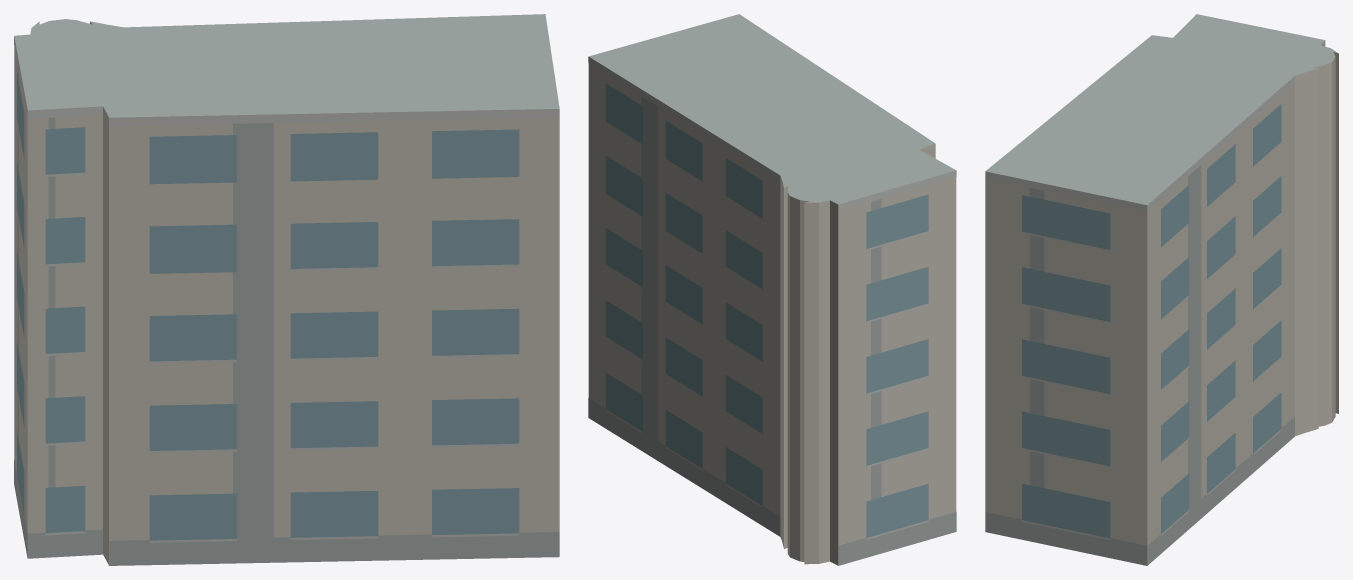
Rendered from survey-upis-32914213.glb.
3 views of the same model, side by side, from view 1: azimuth 30°, elevation 25°; view 2: azimuth 150°, elevation 25°; view 3: azimuth 270°, elevation 25° (orthographic). The views are drawn at different scales.
Visible parts, largest first — view 1: survey-upis-32914213.tmp; view 2: survey-upis-32914213.tmp; view 3: survey-upis-32914213.tmp.
Part boxes in pixels (x1,y1,x2,y2): survey-upis-32914213.tmp: (14, 14, 559, 565); survey-upis-32914213.tmp: (588, 14, 956, 565); survey-upis-32914213.tmp: (985, 14, 1338, 565).
Size of the model in its own units: 14.57 by 12.8 by 11.38.
